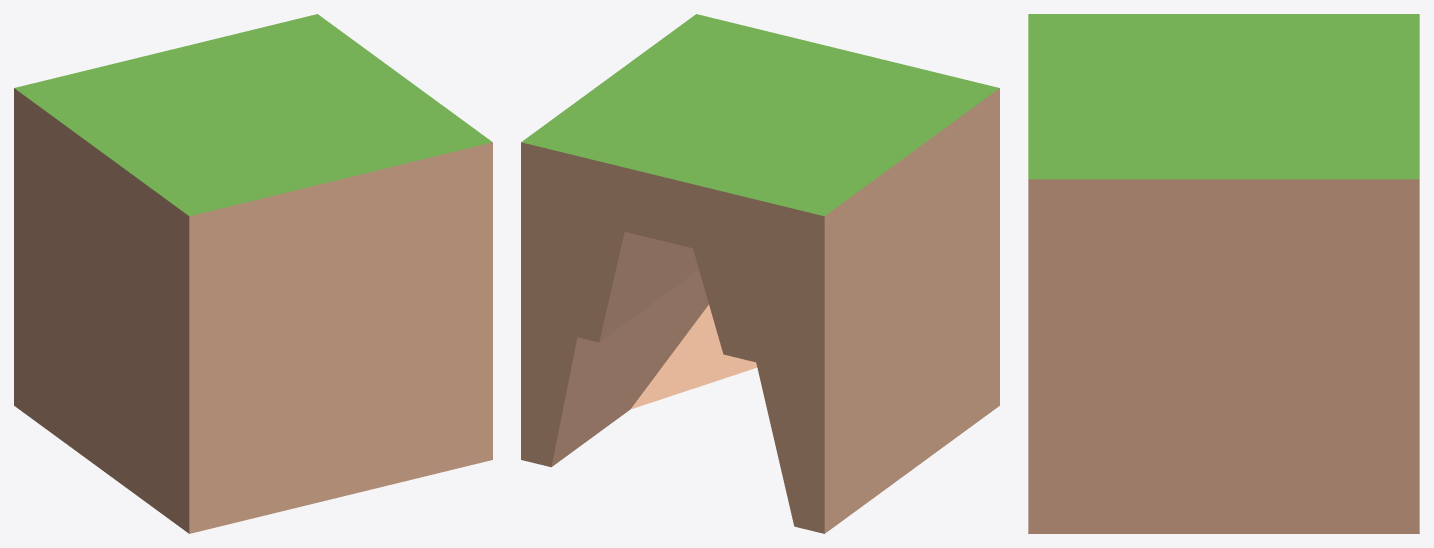
The model's file is cliff_blockCave_rock.glb.
3 renders of one model, left to right at view 1: azimuth 30°, elevation 25°; view 2: azimuth 150°, elevation 25°; view 3: azimuth 270°, elevation 25°, orthographic. The views are drawn at different scales.
Parts seen in each view (by area): view 1: cliff_blockCave_rock; view 2: cliff_blockCave_rock; view 3: cliff_blockCave_rock.
Boxes of the visible parts, x1,y1,x2,y2 form: cliff_blockCave_rock: (14, 14, 492, 533); cliff_blockCave_rock: (521, 14, 999, 533); cliff_blockCave_rock: (1028, 14, 1419, 533).
Size of the model in its own units: 1 by 1 by 1.
